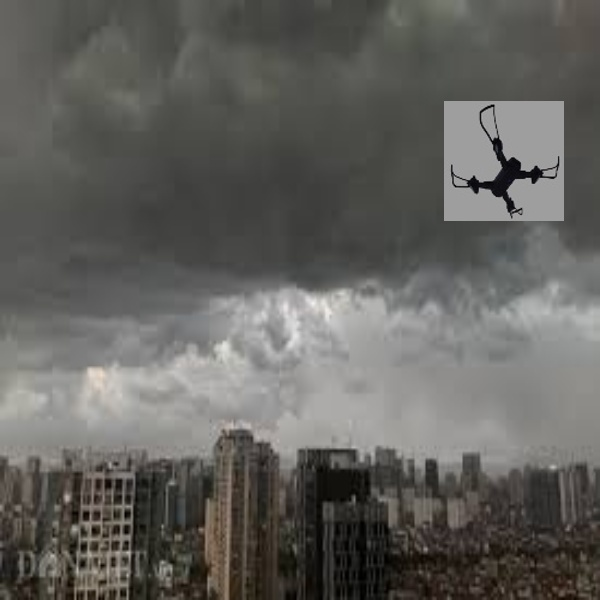drone: (447, 100, 563, 218)
